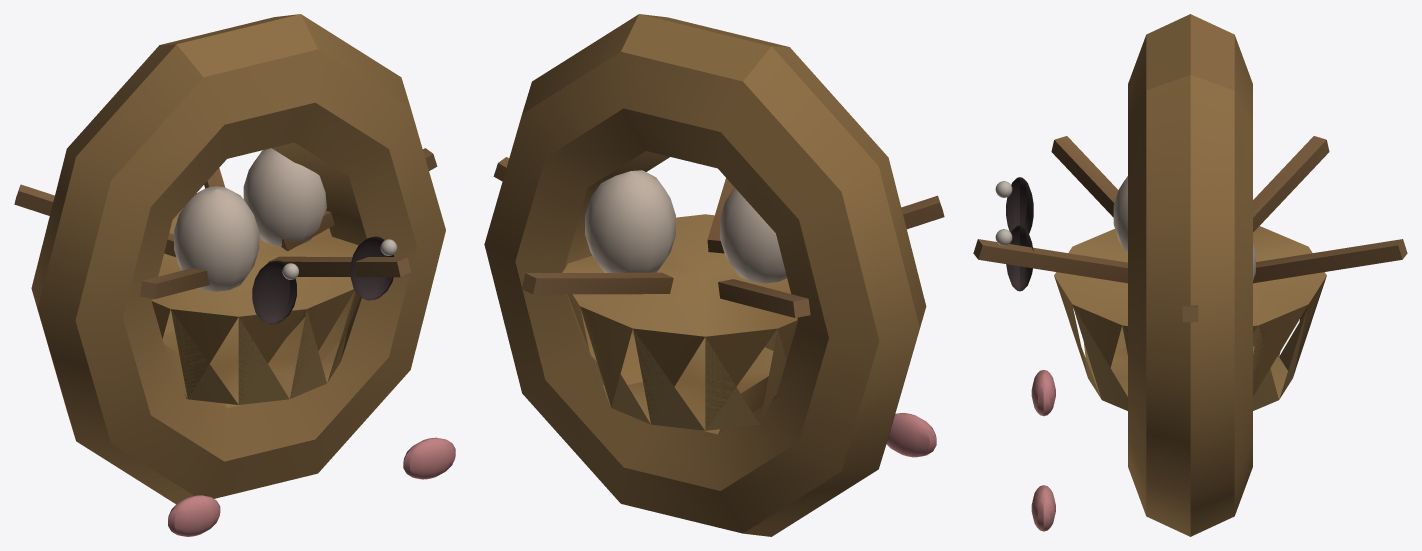
3 views of the same model, side by side, from view 1: azimuth 30°, elevation 25°; view 2: azimuth 150°, elevation 25°; view 3: azimuth 270°, elevation 25° (orthographic). The views are drawn at different scales.
Visible parts, largest first — view 1: pet_p49054725; view 2: pet_p49054725; view 3: pet_p49054725.
Boxes of the visible parts, bbox=[...] form: pet_p49054725: bbox=[14, 14, 455, 536]; pet_p49054725: bbox=[484, 14, 944, 536]; pet_p49054725: bbox=[973, 14, 1407, 536].
Bounding box in the file's own units: 0.41 × 0.4484 × 0.3818.
